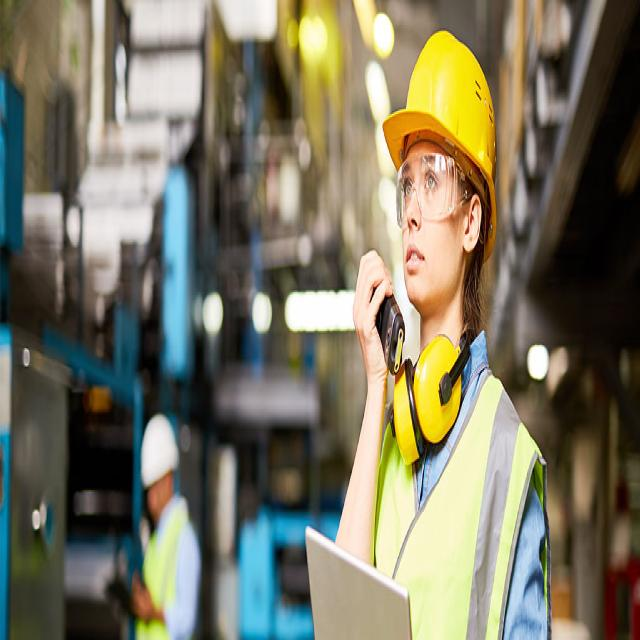goggles: (390, 145, 480, 227)
helmet: (379, 26, 504, 189), (132, 406, 182, 490)
vest: (364, 343, 544, 640), (132, 512, 196, 640)
